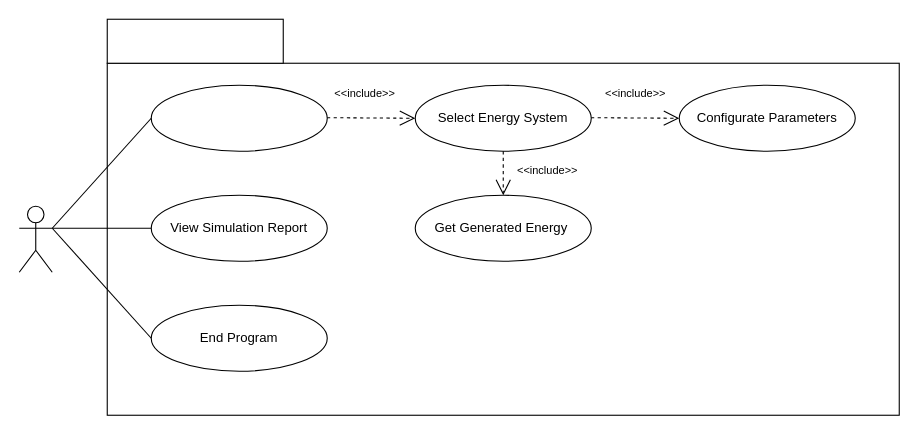
Some shapes in this 919 by 435 pixel diagram are drawn without their labels. The centre of each missing label's shape, as x and y in pixels:
"Energy System" goes at (194,40).
"Start Simulation" goes at (238,117).
"User" goes at (35,238).
